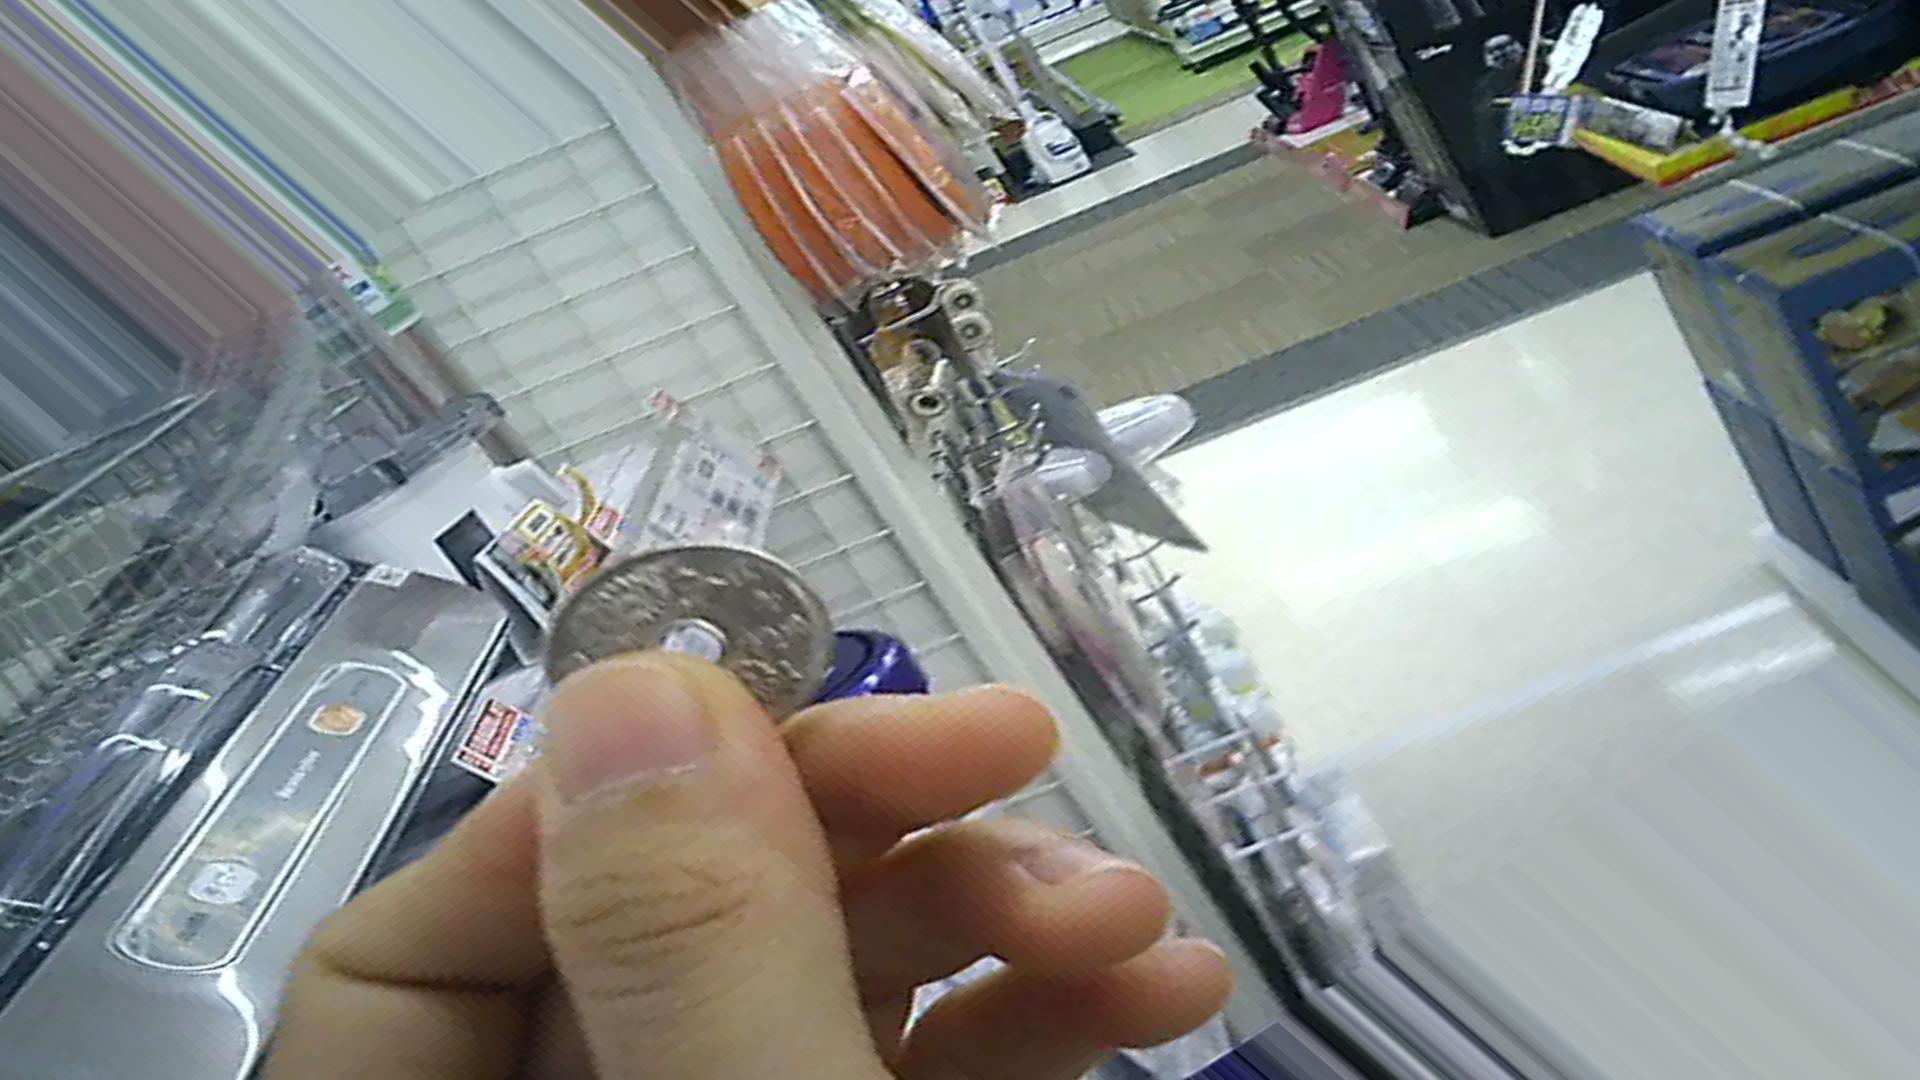50 Yen: (538, 553, 841, 753)
